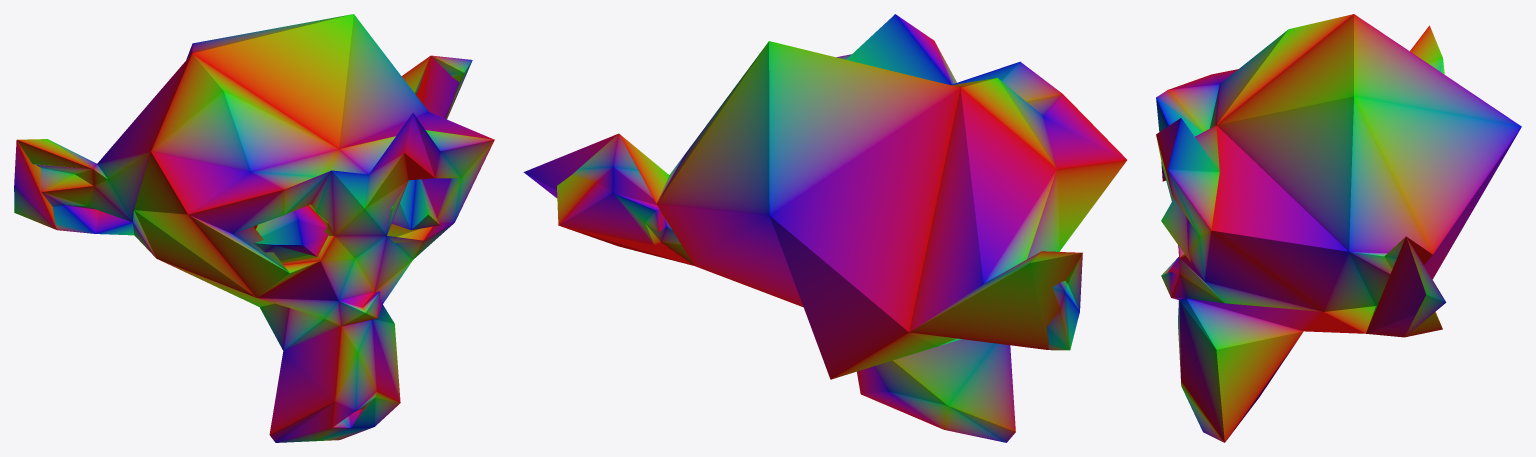
Rendered from after_decimating_reconquest_1.obj.
The picture shows the model from 3 angles, left to right: view 1: azimuth 30°, elevation 25°; view 2: azimuth 150°, elevation 25°; view 3: azimuth 270°, elevation 25°; orthographic projection. The views are drawn at different scales.
Size of the model in its own units: 2.6 by 1.91 by 1.7.
